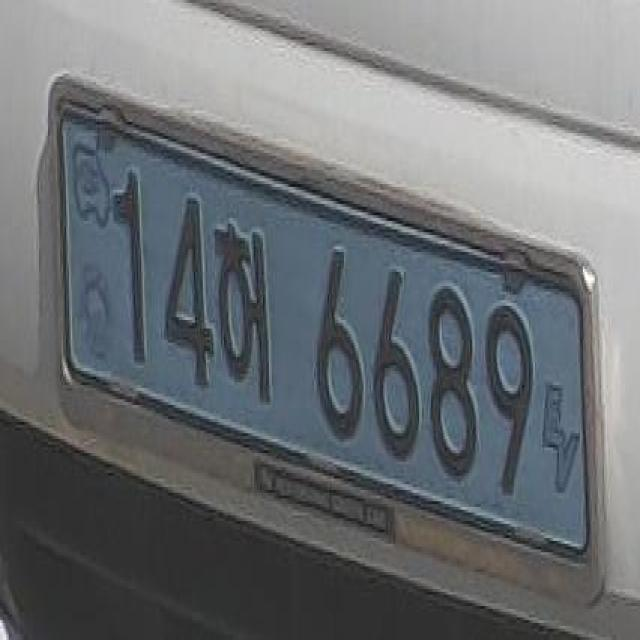EV_plate: (46, 90, 606, 577)
